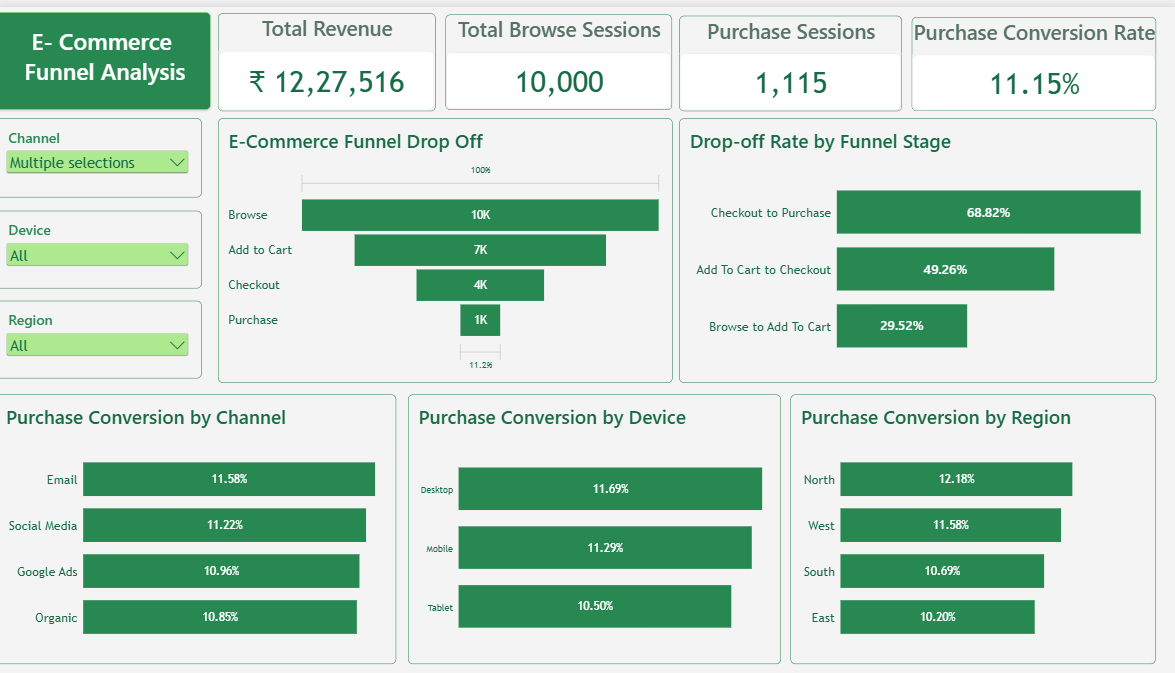

The dashboard page shown, as its layout file describes it:
{"tool":"powerbi","page":{"name":"Page 1","canvas":[1920,1080],"ordinal":0},"visuals":[{"type":"cardVisual","title":"Total Browse Sessions","fields":{"Data":["funnel_analysis_data.Browse Sessions"]},"box":[732.8,12.3,366.4,154.4],"z":0},{"type":"cardVisual","title":"Purchase Sessions","fields":{"Data":["funnel_analysis_data.Purchase Sessions"]},"box":[1109.4,14.4,360.2,154.4],"z":1000},{"type":"cardVisual","title":"Purchase Conversion Rate","fields":{"Data":["funnel_analysis_data.Purchase Conversion %"]},"box":[1486.1,16.5,395.2,152.3],"z":2000},{"type":"cardVisual","title":"Total Revenue","fields":{"Data":["funnel_analysis_data.Total Revenue"]},"box":[364.3,10.3,352,158.5],"z":3000},{"type":"funnel","title":"E-Commerce Funnel Drop Off","fields":{"Y":["funnel_analysis_data.Funnel Sessions"],"Category":["funnel_analysis_data.Event"]},"box":[364.3,179.1,734.8,428.1],"z":4000},{"type":"clusteredBarChart","title":"Purchase Conversion by Channel","fields":{"Category":["funnel_analysis_data.Channel"],"Y":["funnel_analysis_data.Channel Purchase Conversion %"]},"box":[4.1,625.7,648.4,436.4],"z":5000},{"type":"clusteredBarChart","title":"Purchase Conversion by Device","fields":{"Category":["funnel_analysis_data.Device"],"Y":["funnel_analysis_data.Channel Purchase Conversion %"]},"box":[671,625.7,603.1,436.4],"z":6000},{"type":"clusteredBarChart","title":"Purchase Conversion  by Region","fields":{"Category":["funnel_analysis_data.Region"],"Y":["funnel_analysis_data.Channel Purchase Conversion %"]},"box":[1290.6,625.7,590.7,436.4],"z":7000},{"type":"clusteredBarChart","title":"Drop-off Rate by Funnel Stage","fields":{"Category":["Funnel Dropoff.Funnel Stage"],"Y":["Funnel Dropoff.Drop-off Rate %"]},"box":[1109.4,179.1,771.9,428.1],"z":8000},{"type":"textbox","box":[0,8.2,352,158.5],"z":8001},{"type":"slicer","fields":{"Values":["funnel_analysis_data.Channel"]},"box":[0,179.1,337.6,127.6],"z":8002},{"type":"slicer","fields":{"Values":["funnel_analysis_data.Device"]},"box":[0,329.3,337.6,125.6],"z":8003},{"type":"slicer","fields":{"Values":["funnel_analysis_data.Region"]},"box":[0,475.5,337.6,125.6],"z":8004}]}

Visuals, with their boxes in screenshot pixels (x1, y1, x2, y2), scaled from the page's 1920x1080 canvas onto the 1175x673 screenshot:
"Total Browse Sessions" cardVisual: l=448, t=8, r=673, b=104
"Purchase Sessions" cardVisual: l=679, t=9, r=899, b=105
"Purchase Conversion Rate" cardVisual: l=909, t=10, r=1151, b=105
"Total Revenue" cardVisual: l=223, t=6, r=438, b=105
"E-Commerce Funnel Drop Off" funnel: l=223, t=112, r=673, b=378
"Purchase Conversion by Channel" clusteredBarChart: l=3, t=390, r=399, b=662
"Purchase Conversion by Device" clusteredBarChart: l=411, t=390, r=780, b=662
"Purchase Conversion  by Region" clusteredBarChart: l=790, t=390, r=1151, b=662
"Drop-off Rate by Funnel Stage" clusteredBarChart: l=679, t=112, r=1151, b=378
textbox: l=0, t=5, r=215, b=104
slicer - funnel_analysis_data.Channel: l=0, t=112, r=207, b=191
slicer - funnel_analysis_data.Device: l=0, t=205, r=207, b=283
slicer - funnel_analysis_data.Region: l=0, t=296, r=207, b=375
